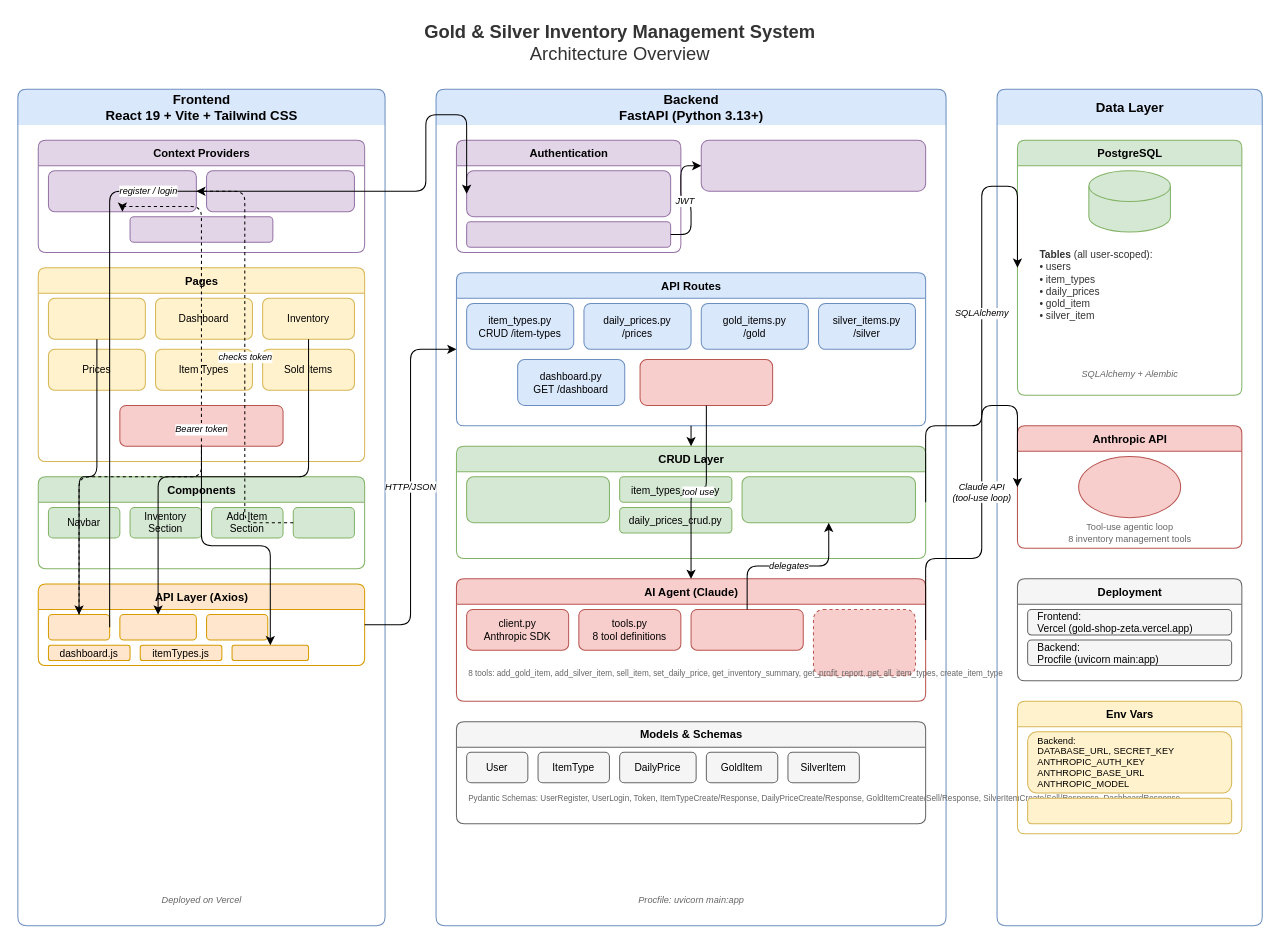
This 1280x944 diagram has some shape labels left out. The shapes that lost their labels are listed below. From the top down, each one's centre as x and y in pixels, then its label:
At point (813, 165): "dependencies.py get_current_user() JWT Bearer extraction".
At point (121, 191): "AuthContext (JWT in localStorage)".
At point (280, 191): "ThemeContext (Dark/Light mode)".
At point (568, 193): "auth_route.py POST /auth/register POST /auth/login".
At point (201, 229): "ToastProvider".
At point (568, 234): "auth_crud.py createUser / loginUser".
At point (96, 318): "Login Register".
At point (706, 382): "assistant.py POST /assistant/chat".
At point (201, 425): "ChatWidget (AI Assistant)".
At point (537, 499): "items_crud.py (polymorphic: Gold + Silver)".
At point (828, 499): "dashboard_crud.py (shared: dashboard + agent)".
At point (1129, 486): "Claude Sonnet".
At point (323, 522): "Protected Route".
At point (78, 627): "auth.js".
At point (157, 627): "inventory.js".
At point (237, 627): "prices.js".
At point (746, 629): "executor.py execute_tool() dispatches to CRUD".
At point (863, 642): "Agentic loop: tool_use ? execute : respond".
At point (270, 652): "assistant.js".
At point (1129, 810): "Frontend: VITE_API_URL".
